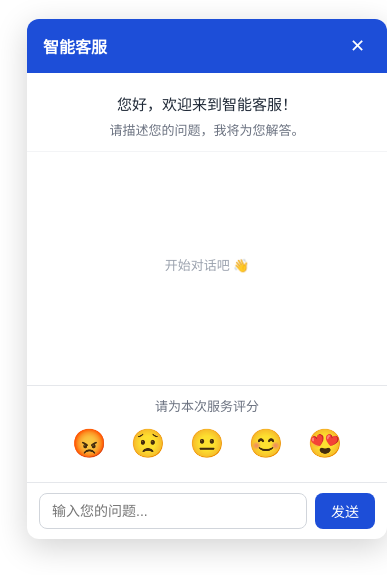
Test: ChatPanel › rating › shows submit button after selecting a score
Expected: the text "提交评分" is not shown
What coordinates should you click on to do the following:
click the button named "评分 4"
I would click on:
 (266, 444)
Its box is [240,423,291,464].
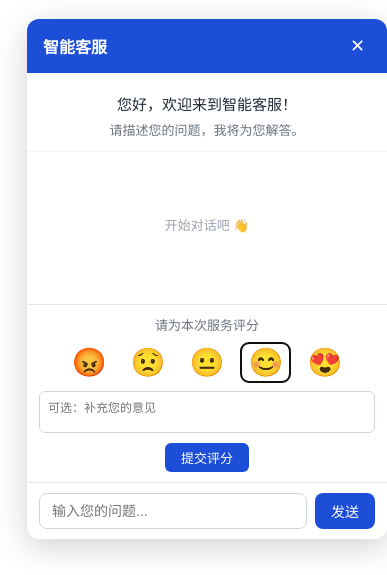
Expected: the button "提交评分" is shown, [165,443,249,472]
